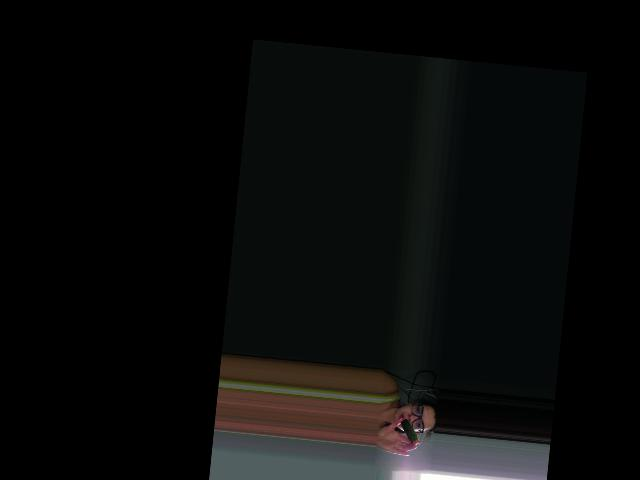cucumber: (399, 418, 420, 442)
